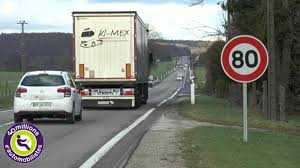Speed_limit_80km: (220, 34, 269, 83)
